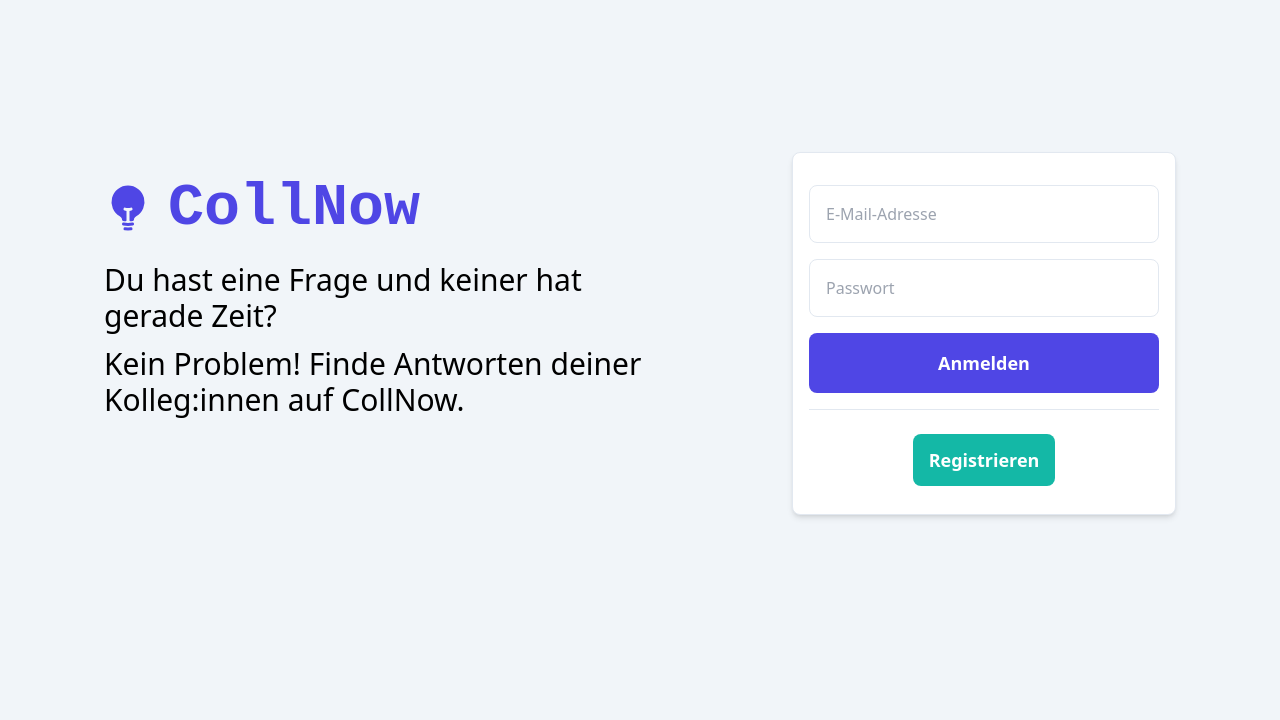
Login › renders Register dialog
This screenshot has width=1280, height=720.
Step 1. Click the button "Registrieren" → (984, 460), box left=913, top=434, right=1055, bottom=486
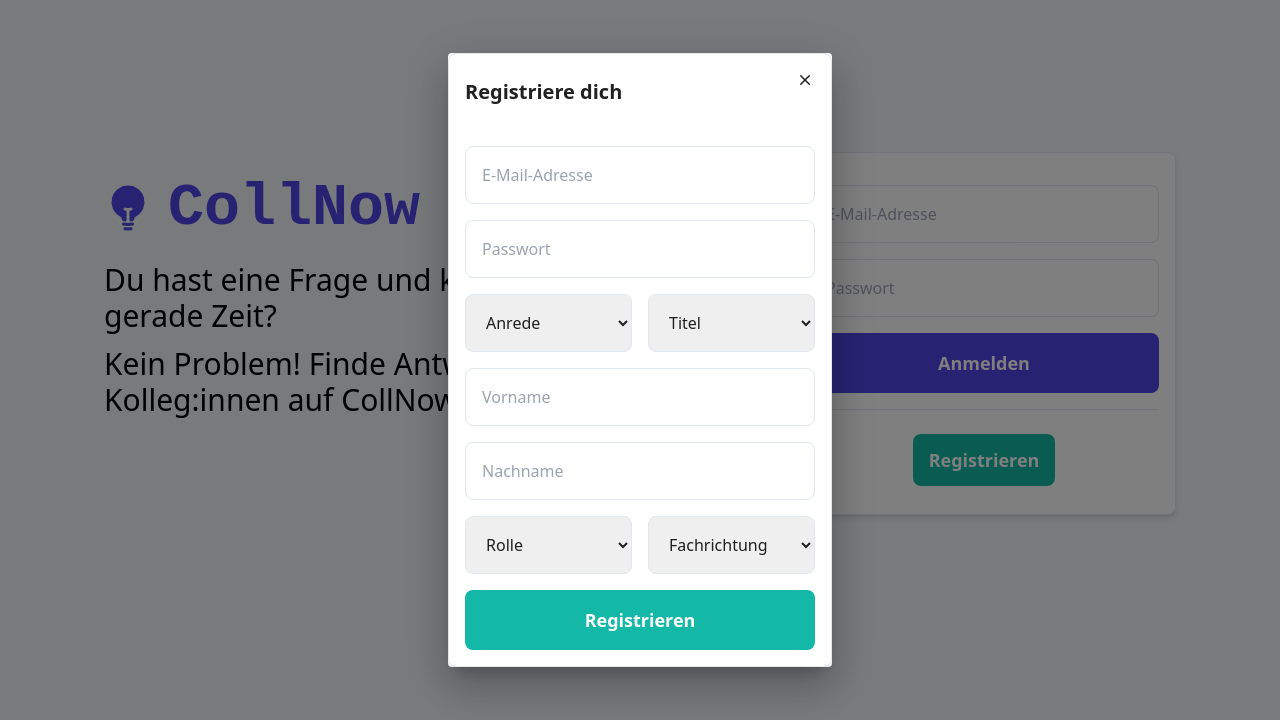
Expected: the number of fields with placeholder "E-Mail-Adresse" is 2, left=809, top=185, right=1159, bottom=243; left=465, top=146, right=815, bottom=204
Now the heading "Registriere dich" is shown, box left=465, top=78, right=622, bottom=106
Now the number of dropdowns is 4, box left=465, top=294, right=632, bottom=352; left=648, top=294, right=815, bottom=352; left=465, top=516, right=632, bottom=574; left=648, top=516, right=815, bottom=574
